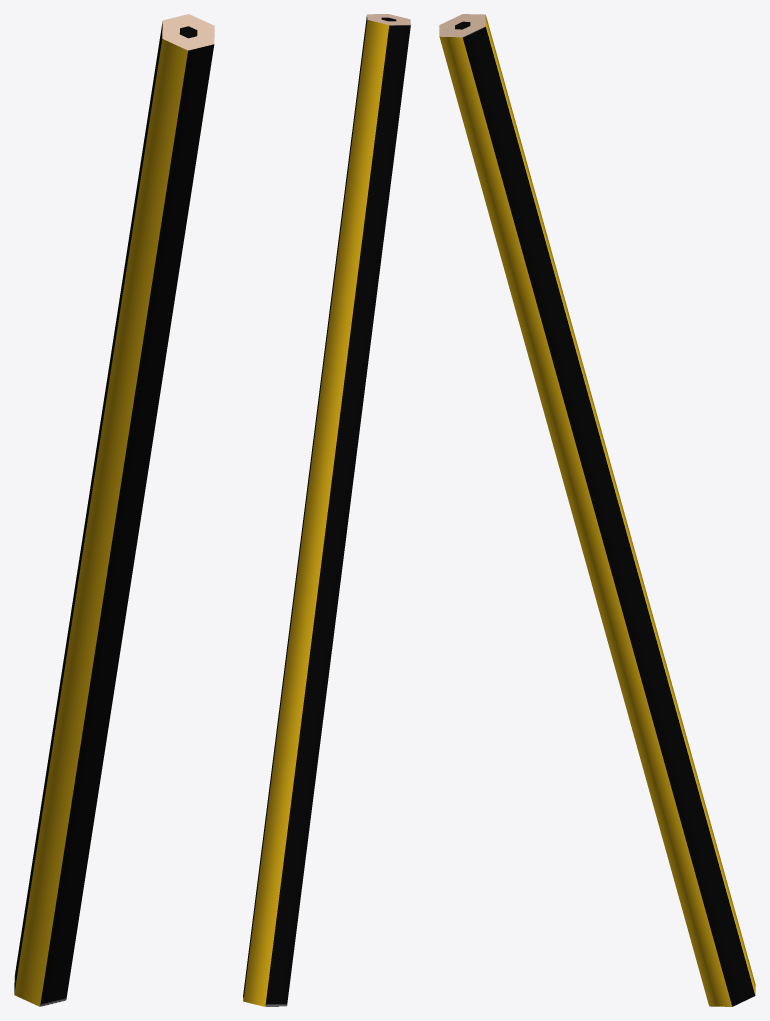
3 views of the same model, side by side, from view 1: azimuth 30°, elevation 25°; view 2: azimuth 150°, elevation 25°; view 3: azimuth 270°, elevation 25° (orthographic). The views are drawn at different scales.
Parts seen in each view (by area): view 1: 鉛筆; view 2: 鉛筆; view 3: 鉛筆.
Part boxes in pixels (left/top/right/bottom): 鉛筆: left=14, top=14, right=214, bottom=1006; 鉛筆: left=243, top=14, right=410, bottom=1006; 鉛筆: left=439, top=14, right=755, bottom=1006.
Bounding box in the file's own units: 0.5 × 9.8 × 2.86.
1 material, 1 textured.
